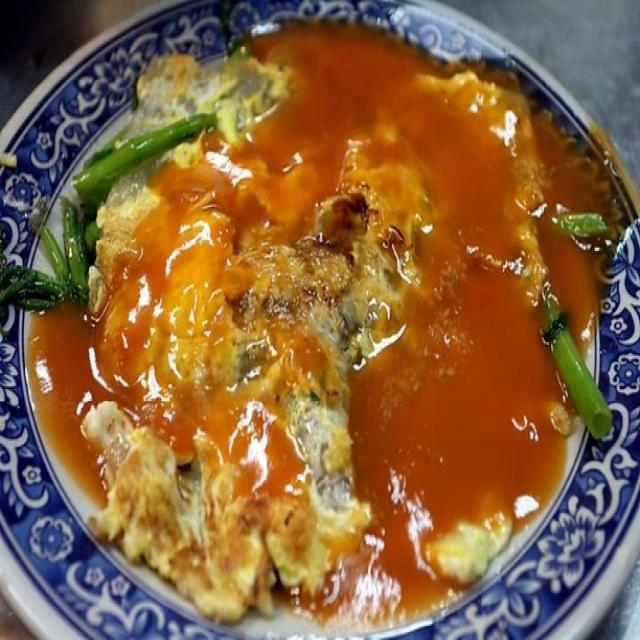熟制海鲜: (27, 20, 621, 629)
